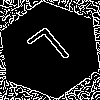L: (25, 25, 78, 79)
